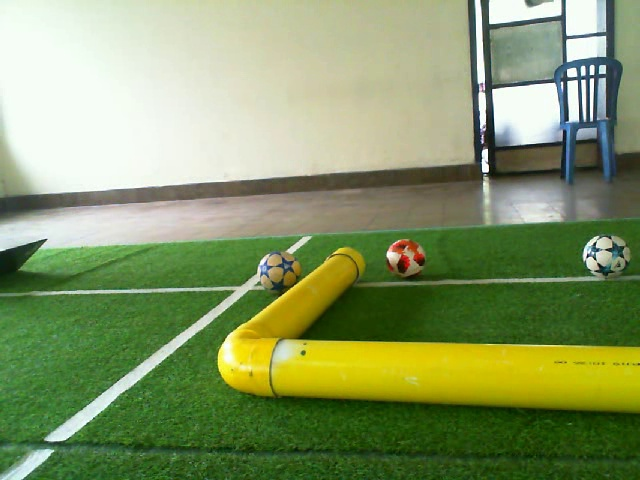ball: (580, 233, 633, 279), (256, 250, 303, 296), (384, 237, 428, 280)
